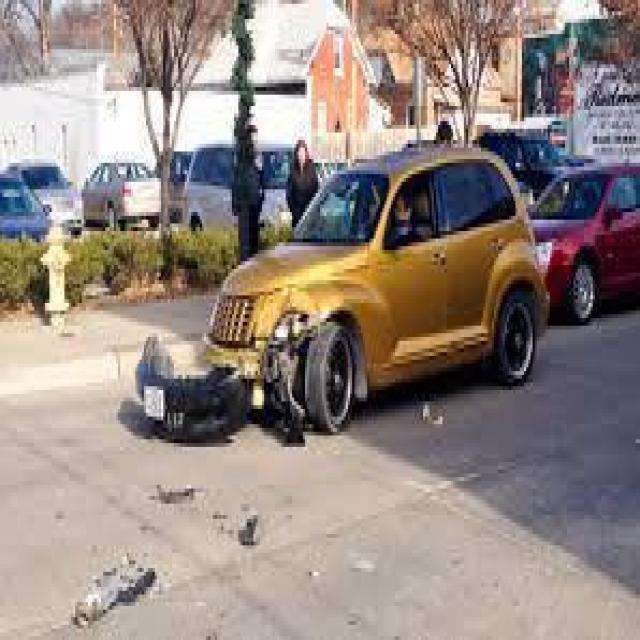damaged: (142, 306, 312, 451), (314, 292, 354, 326)
